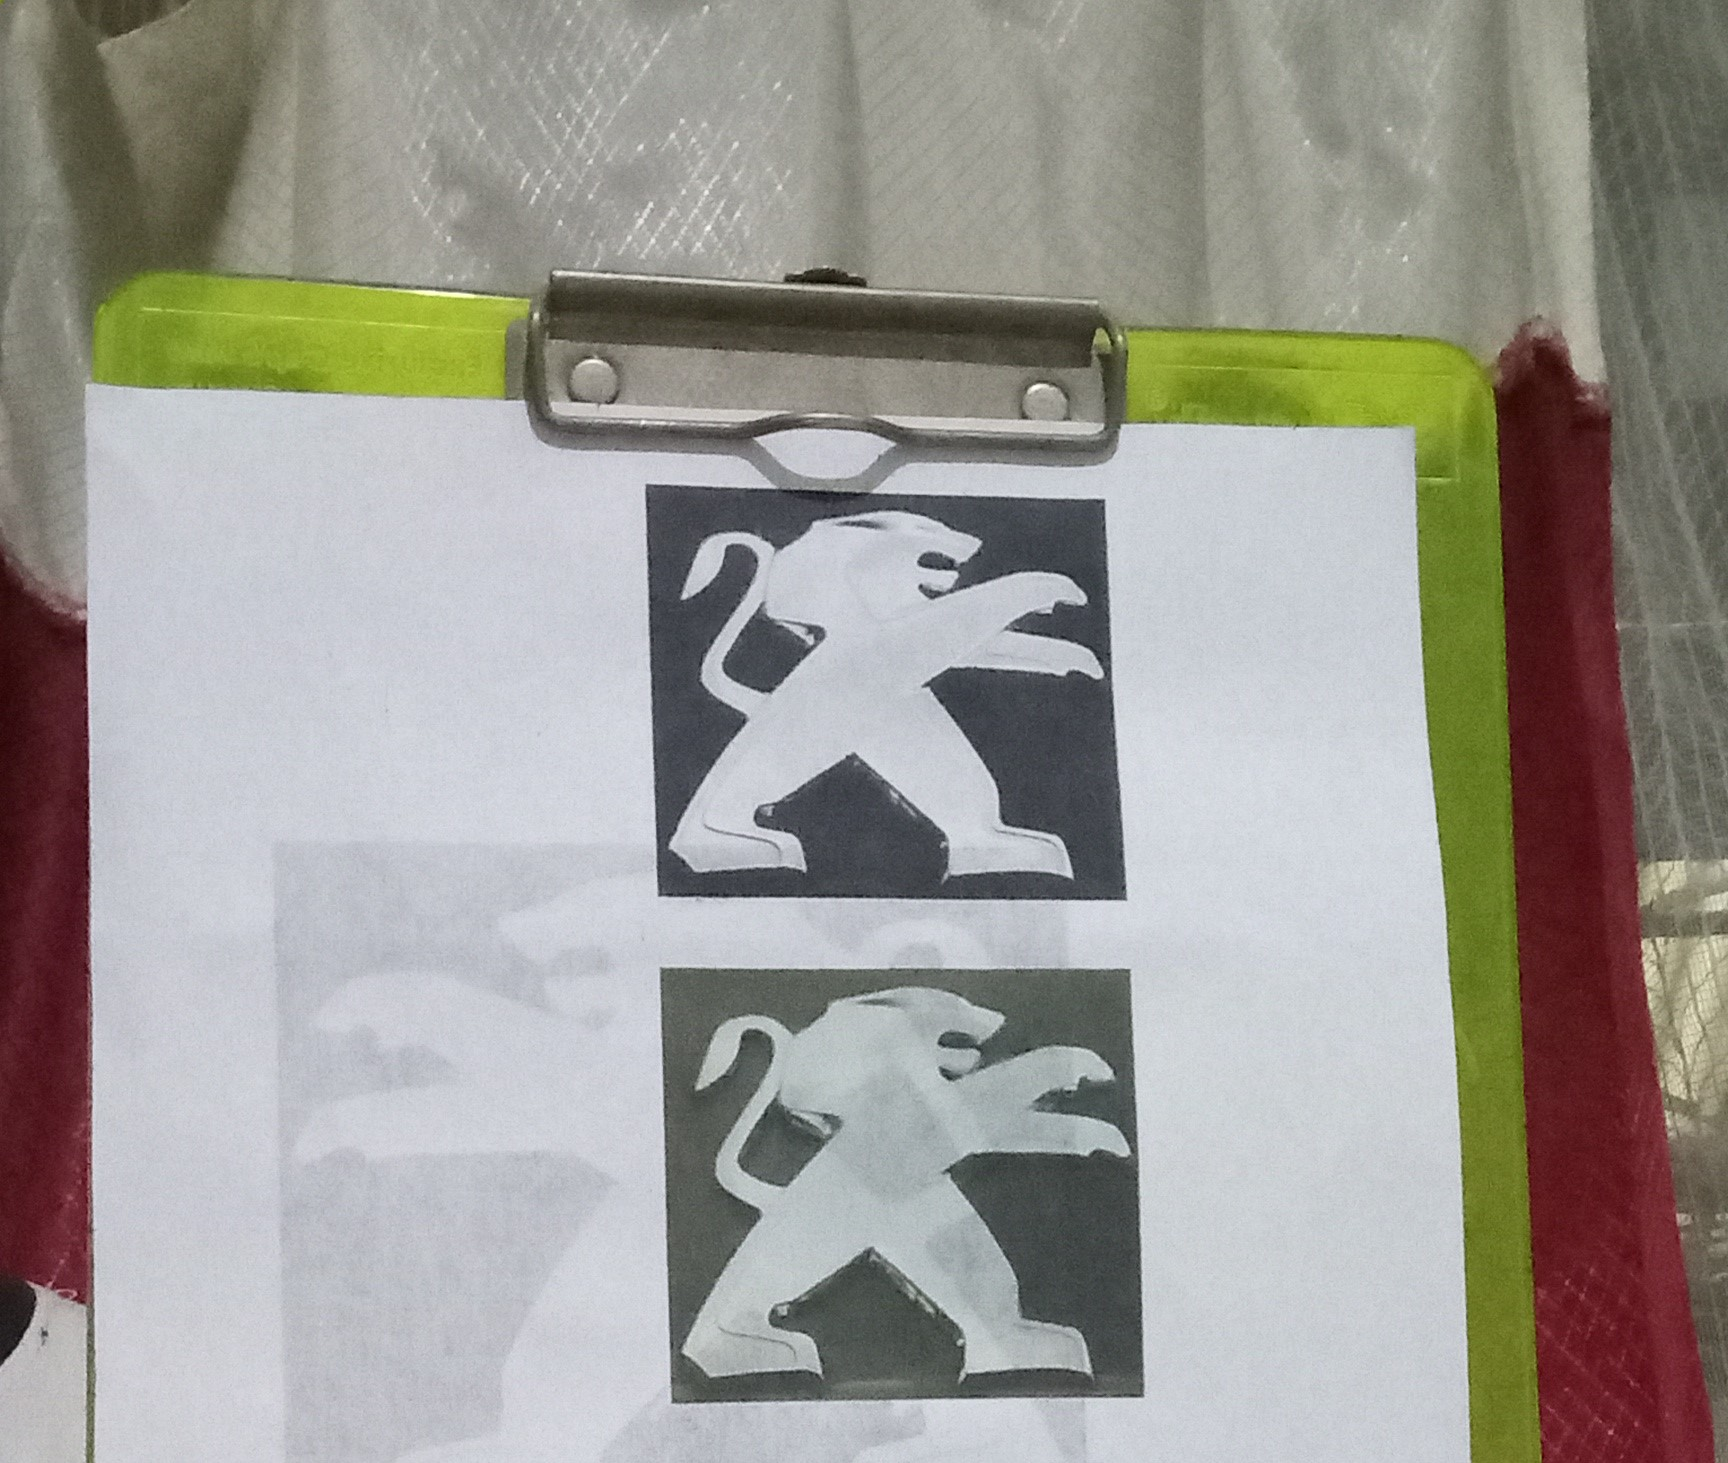Peugeot: (669, 980, 1130, 1393), (653, 493, 1114, 896)
